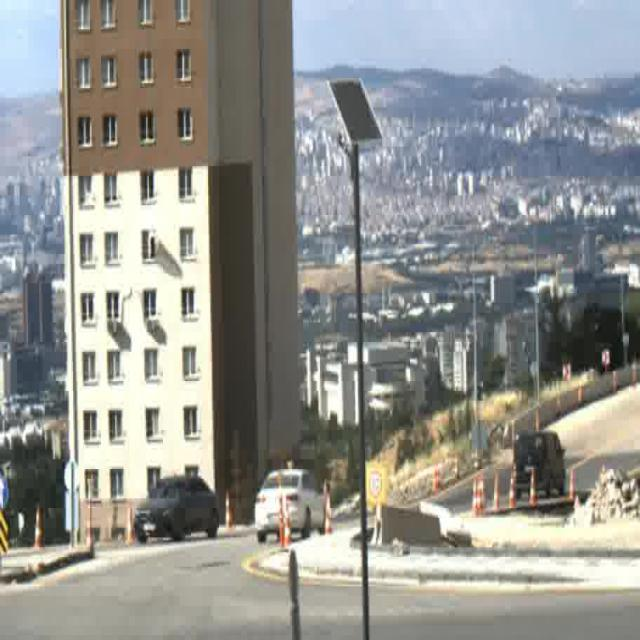Car: (134, 473, 218, 543), (255, 465, 328, 541), (512, 431, 564, 500)
